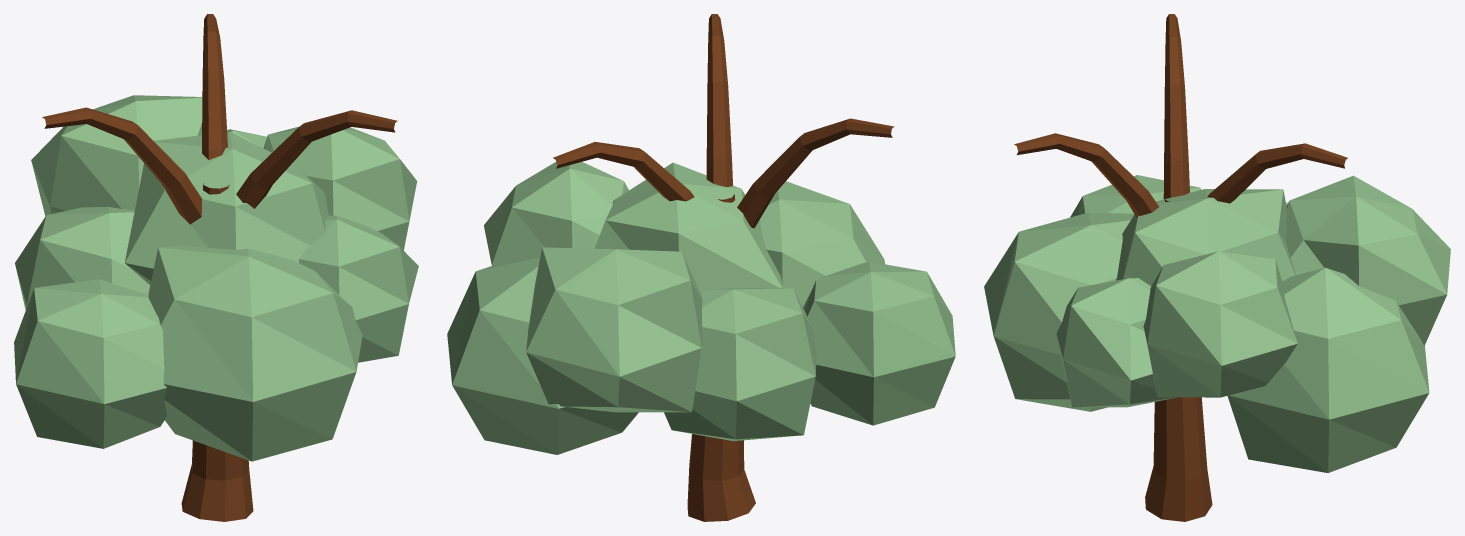
File: nature_oak_mature.glb
The picture shows the model from 3 angles, left to right: view 1: azimuth 30°, elevation 25°; view 2: azimuth 150°, elevation 25°; view 3: azimuth 270°, elevation 25°; orthographic projection. The views are drawn at different scales.
Visible parts, largest first — view 1: world; view 2: world; view 3: world.
Boxes of the visible parts, bbox=[...] form: world: bbox=[14, 14, 418, 521]; world: bbox=[447, 14, 955, 521]; world: bbox=[984, 14, 1450, 521].
Size of the model in its own units: 2 by 1.88 by 1.93.
Materials: 2 (1 with a texture image).
